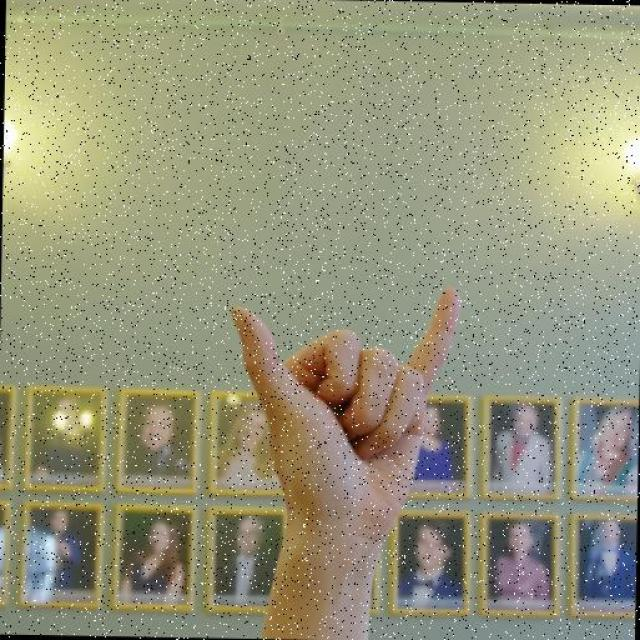Y: (223, 279, 464, 539)
